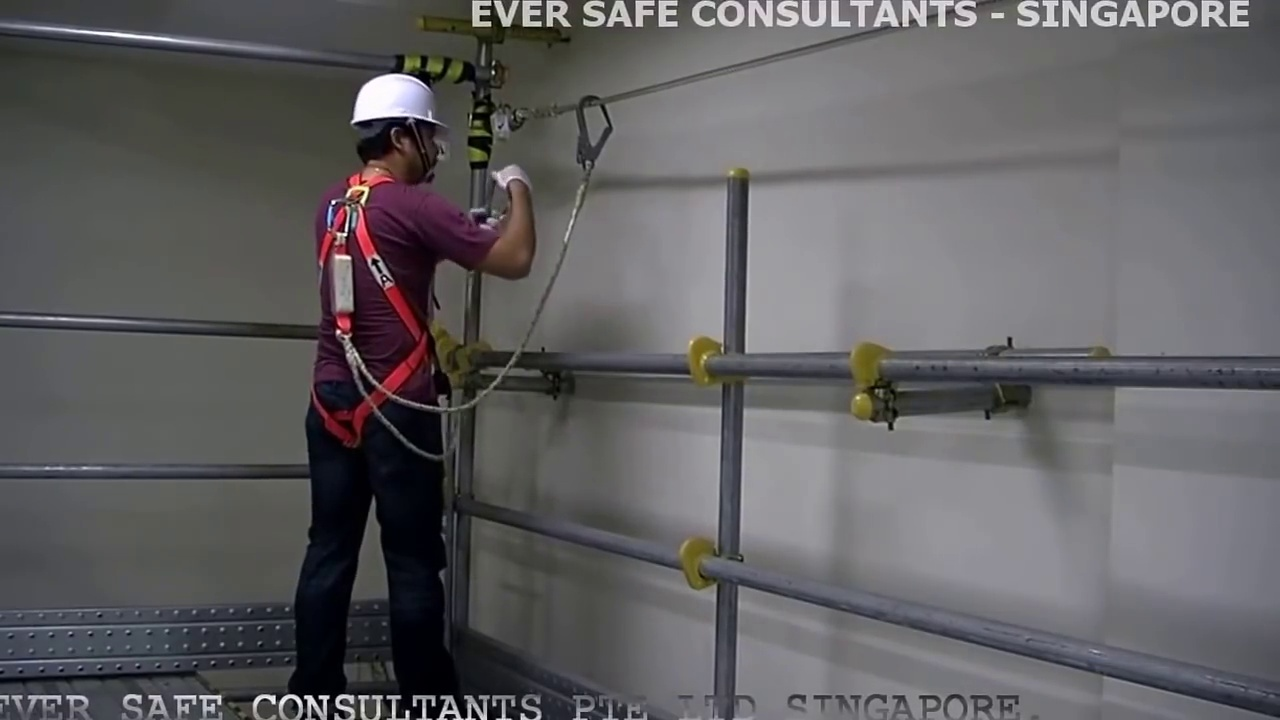harness: (309, 189, 405, 434)
helmet: (348, 73, 442, 130)
hook: (569, 89, 614, 170)
leash: (432, 228, 584, 424)
